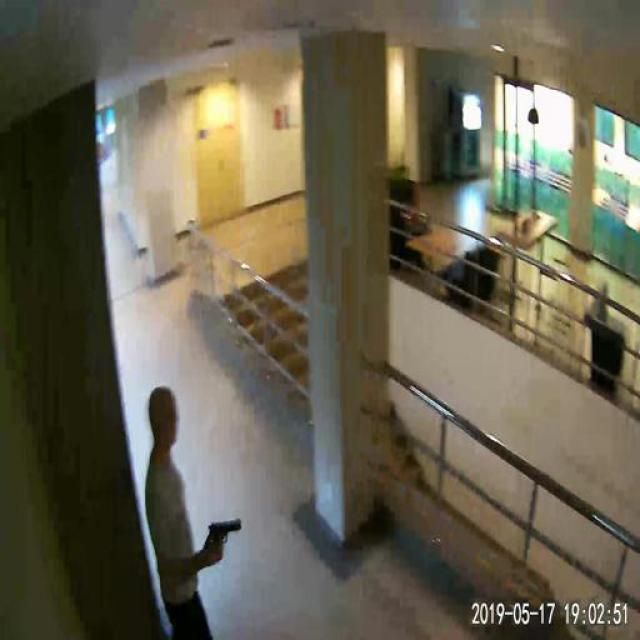gun: (206, 518, 240, 558)
